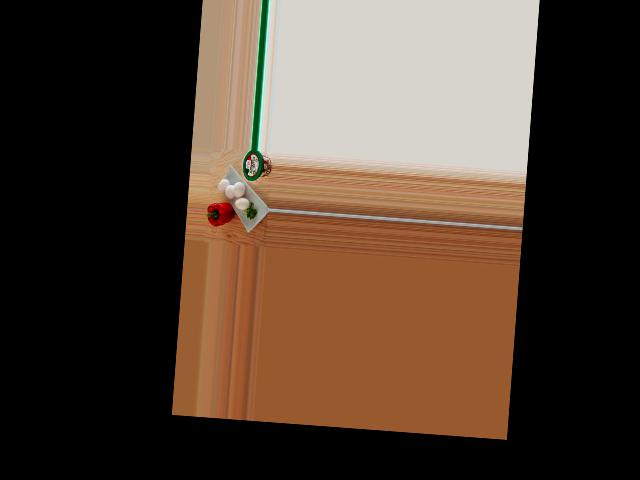bell_pepper: (206, 196, 234, 229)
